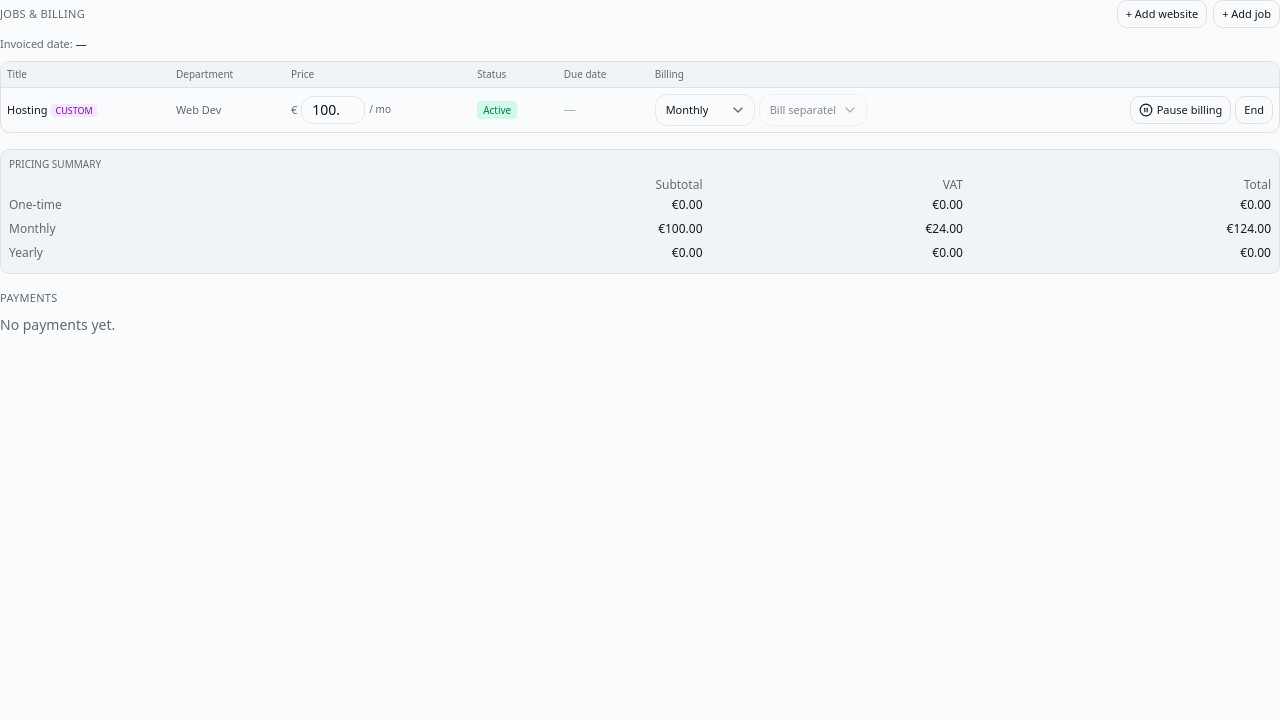
Scenario: JobsBillingPanel end + archive › shows the unpaid-balance warning in the confirm dialog when the service has an unpaid balance
What coordinates should you click on to do the following:
click the button "End"
I would click on:
 (1254, 110)
Its box is [1235,96,1273,124].
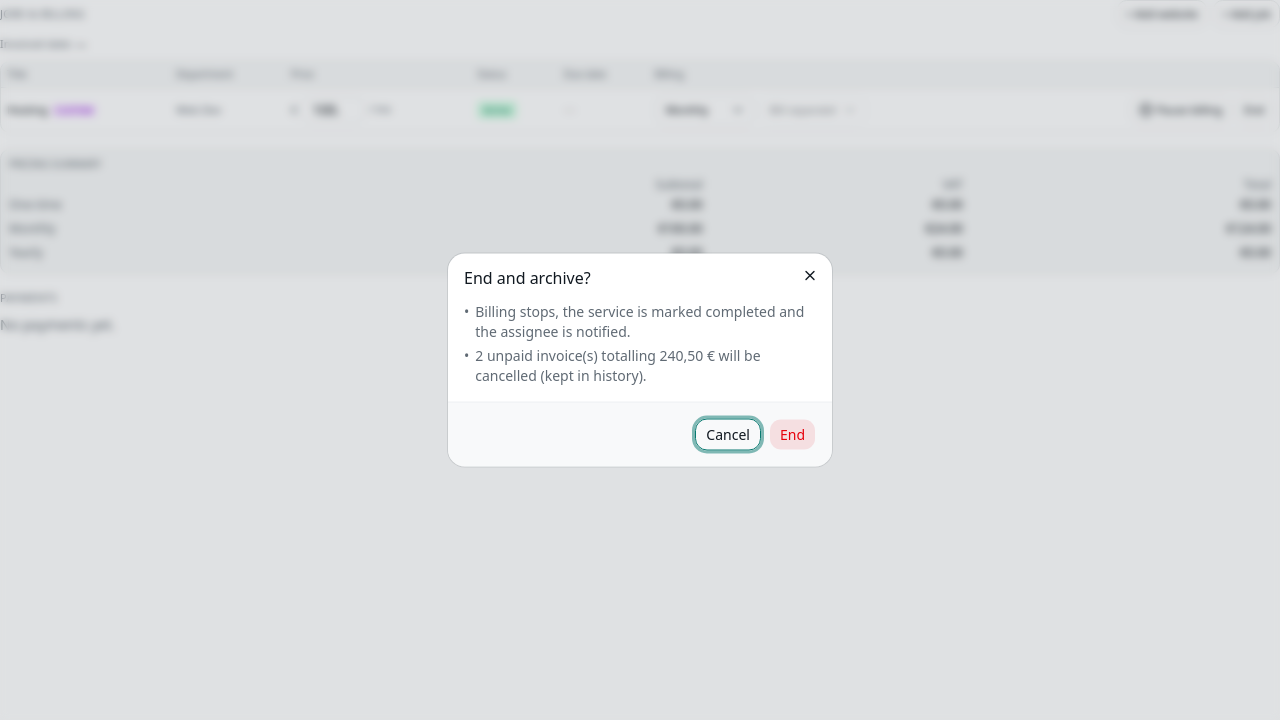
Expected: the text "2 unpaid invoice(s) totalling 240,50 €" is shown, [475,346,761,384]
